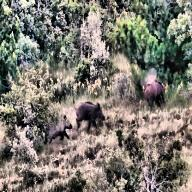boar: (70, 88, 108, 136), (40, 108, 75, 152), (139, 74, 170, 123)
